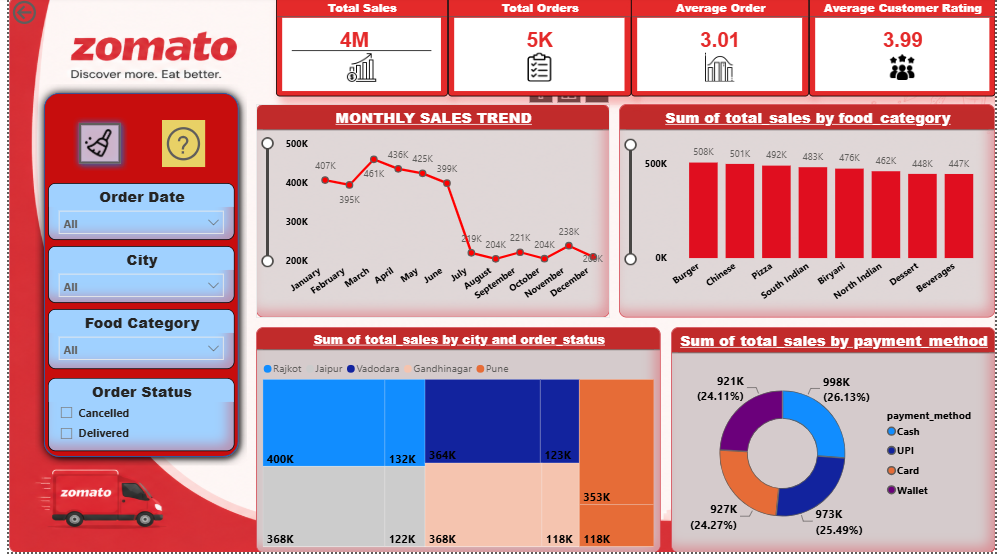

This screenshot's page, from the dashboard's own definition file:
{"tool":"powerbi","page":{"name":"Page 1","canvas":[1280,720],"ordinal":0},"visuals":[{"type":"image","box":[0,0,1280,720.7],"z":0},{"type":"lineChart","title":"MONTHLY SALES TREND","fields":{"Y":["Sum(Zomato_Sales_Advanced_Project.total_sales)"],"Category":["Zomato_Sales_Advanced_Project.order_date.Variation.Date Hierarchy.Month"]},"box":[320,139.1,459.1,276.9],"z":1000},{"type":"columnChart","fields":{"Y":["Sum(Zomato_Sales_Advanced_Project.total_sales)"],"Category":["Zomato_Sales_Advanced_Project.food_category"]},"box":[791.7,139.1,488.3,276.9],"z":2000},{"type":"donutChart","fields":{"Category":["Zomato_Sales_Advanced_Project.payment_method"],"Y":["Sum(Zomato_Sales_Advanced_Project.total_sales)"]},"box":[858.9,427.8,421.1,293.1],"z":3000},{"type":"actionButton","box":[0,0,100,40],"z":4000},{"type":"treemap","fields":{"Group":["Zomato_Sales_Advanced_Project.city"],"Values":["Sum(Zomato_Sales_Advanced_Project.total_sales)"],"Details":["Zomato_Sales_Advanced_Project.order_status"]},"box":[320,427.8,525.5,293.1],"z":5000},{"type":"cardVisual","title":"Total Sales","fields":{"Data":["Sum(Zomato_Sales_Advanced_Project.total_sales)"]},"box":[346.4,0,222.6,129.4],"z":6000},{"type":"cardVisual","title":"Total Orders","fields":{"Data":["CountNonNull(Zomato_Sales_Advanced_Project.quantity)"]},"box":[569,0,237.9,129.4],"z":7000},{"type":"cardVisual","title":"Average Order","fields":{"Data":["Avg(Zomato_Sales_Advanced_Project.quantity)"]},"box":[807,0,231,129.4],"z":8000},{"type":"cardVisual","title":"Average Customer Rating","fields":{"Data":["Avg(Zomato_Sales_Advanced_Project.customer_rating)"]},"box":[1037.9,0,242.1,129.4],"z":9000},{"type":"shape","box":[33.4,112.7,275.5,495.3],"z":10000},{"type":"slicer","title":"Order Date","fields":{"Values":["Zomato_Sales_Advanced_Project.order_date.Variation.Date Hierarchy.Month"]},"box":[50.1,240.7,242.1,73.7],"z":11000},{"type":"slicer","title":"City","fields":{"Values":["Zomato_Sales_Advanced_Project.city"]},"box":[50.1,322.8,242.1,73.7],"z":12000},{"type":"slicer","title":"Order Status","fields":{"Values":["Zomato_Sales_Advanced_Project.order_status"]},"box":[50.1,493.9,242.1,94.6],"z":13000},{"type":"slicer","title":"Food Category","fields":{"Values":["Zomato_Sales_Advanced_Project.food_category"]},"box":[50.1,404.9,242.1,77.9],"z":14000},{"type":"actionButton","box":[82.1,154.4,72.3,71],"z":15000},{"type":"actionButton","box":[199,160,55.7,61.2],"z":16000}]}

Visuals, with their boxes in screenshot pixels (x1, y1, x2, y2), scaled from the page's 1280x720 canvas onto the 999x557 screenshot:
image: select_region(0, 0, 998, 556)
"MONTHLY SALES TREND" lineChart: select_region(250, 108, 608, 322)
columnChart - Sum(Zomato_Sales_Advanced_Project.total_sales) x Zomato_Sales_Advanced_Project.food_category: select_region(618, 108, 998, 322)
donutChart - Zomato_Sales_Advanced_Project.payment_method x Sum(Zomato_Sales_Advanced_Project.total_sales): select_region(670, 331, 998, 556)
actionButton: select_region(0, 0, 78, 31)
treemap - Zomato_Sales_Advanced_Project.city x Sum(Zomato_Sales_Advanced_Project.total_sales): select_region(250, 331, 660, 556)
"Total Sales" cardVisual: select_region(270, 0, 444, 100)
"Total Orders" cardVisual: select_region(444, 0, 630, 100)
"Average Order" cardVisual: select_region(630, 0, 810, 100)
"Average Customer Rating" cardVisual: select_region(810, 0, 998, 100)
shape: select_region(26, 87, 241, 470)
"Order Date" slicer: select_region(39, 186, 228, 243)
"City" slicer: select_region(39, 250, 228, 307)
"Order Status" slicer: select_region(39, 382, 228, 455)
"Food Category" slicer: select_region(39, 313, 228, 373)
actionButton: select_region(64, 119, 121, 174)
actionButton: select_region(155, 124, 199, 171)
